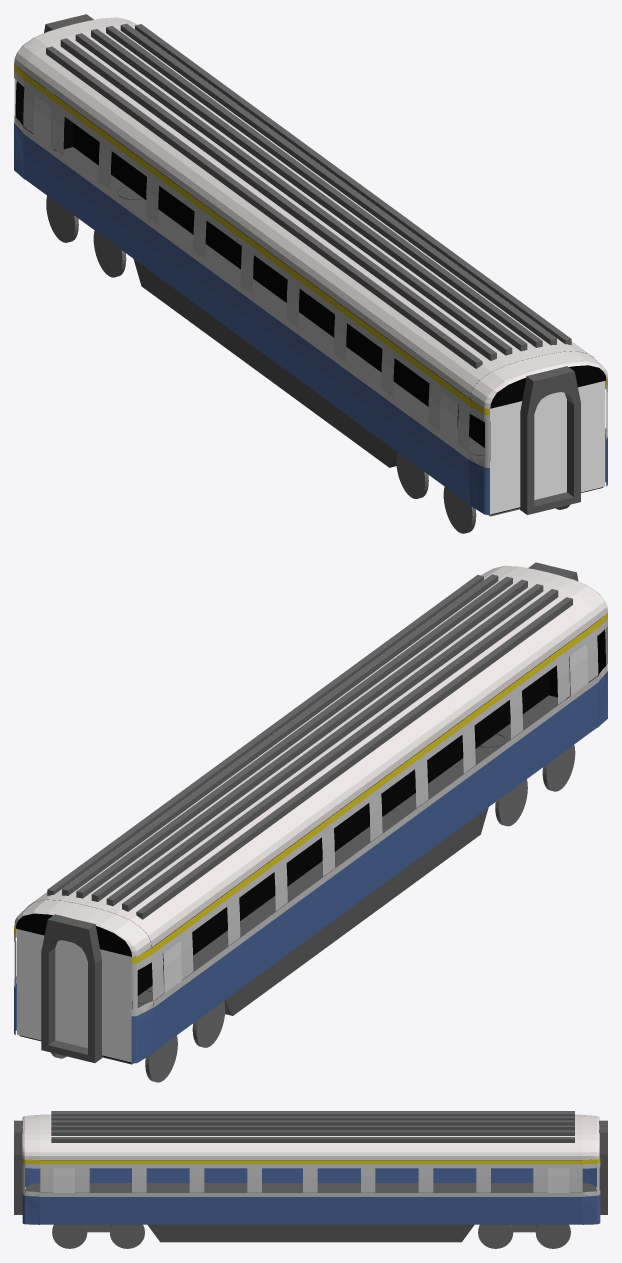
3 views of the same model, one above another, from view 1: azimuth 30°, elevation 25°; view 2: azimuth 150°, elevation 25°; view 3: azimuth 270°, elevation 25° (orthographic). The views are drawn at different scales.
Visible parts, largest first — view 1: Suzanne_001, Plane_007, Plane_001, Plane_111, Cube_010, Cube, Cube_011, Cube_008, Cube_009, Cube_004, Plane_002, Cube_002 (+15 smaller); view 2: Suzanne_001, Plane_007, Plane_100, Plane_111, Cube, Cube_010, Cube_011, Cube_008, Cube_009, Cube_004, Plane_002, Cube_002 (+14 smaller); view 3: Plane_134, Suzanne_001, Cube, Plane_007, Plane_002, Cube_002, Cube_003, Cube_004, Cube_008, Plane_135, Plane_136, Cube_009 (+32 smaller).
Part boxes in pixels (<box>): Suzanne_001: <box>24,24,593,398</box>; Plane_007: <box>23,140,470,504</box>; Plane_001: <box>490,381,605,514</box>; Plane_111: <box>73,109,484,447</box>; Cube_010: <box>60,38,496,360</box>; Cube: <box>133,259,396,467</box>; Cube_011: <box>46,46,482,368</box>; Cube_008: <box>91,29,527,351</box>; Cube_009: <box>75,33,512,355</box>; Cube_004: <box>106,26,542,347</box>; Plane_002: <box>56,147,489,468</box>; Cube_002: <box>120,23,556,345</box>; Suzanne_001: <box>28,573,596,947</box>; Plane_007: <box>151,688,598,1053</box>; Plane_100: <box>17,929,132,1062</box>; Plane_111: <box>135,657,548,995</box>; Cube: <box>224,807,488,1015</box>; Cube_010: <box>122,589,558,911</box>; Cube_011: <box>136,597,572,919</box>; Cube_008: <box>91,579,527,901</box>; Cube_009: <box>106,584,543,906</box>; Cube_004: <box>76,576,512,898</box>; Plane_002: <box>133,695,565,1016</box>; Cube_002: <box>62,574,498,895</box>; Plane_134: <box>40,1201,582,1224</box>; Suzanne_001: <box>40,1114,582,1159</box>; Cube: <box>147,1224,474,1242</box>; Plane_007: <box>40,1168,533,1182</box>; Plane_002: <box>25,1183,596,1196</box>; Cube_002: <box>51,1130,574,1135</box>; Cube_003: <box>51,1137,574,1142</box>; Cube_004: <box>51,1125,574,1130</box>; Cube_008: <box>51,1120,574,1125</box>; Plane_135: <box>40,1160,582,1164</box>; Plane_136: <box>40,1164,582,1168</box>; Cube_009: <box>51,1116,574,1120</box>.
Size of the model in its own units: 2.08 by 13.39 by 2.81.
